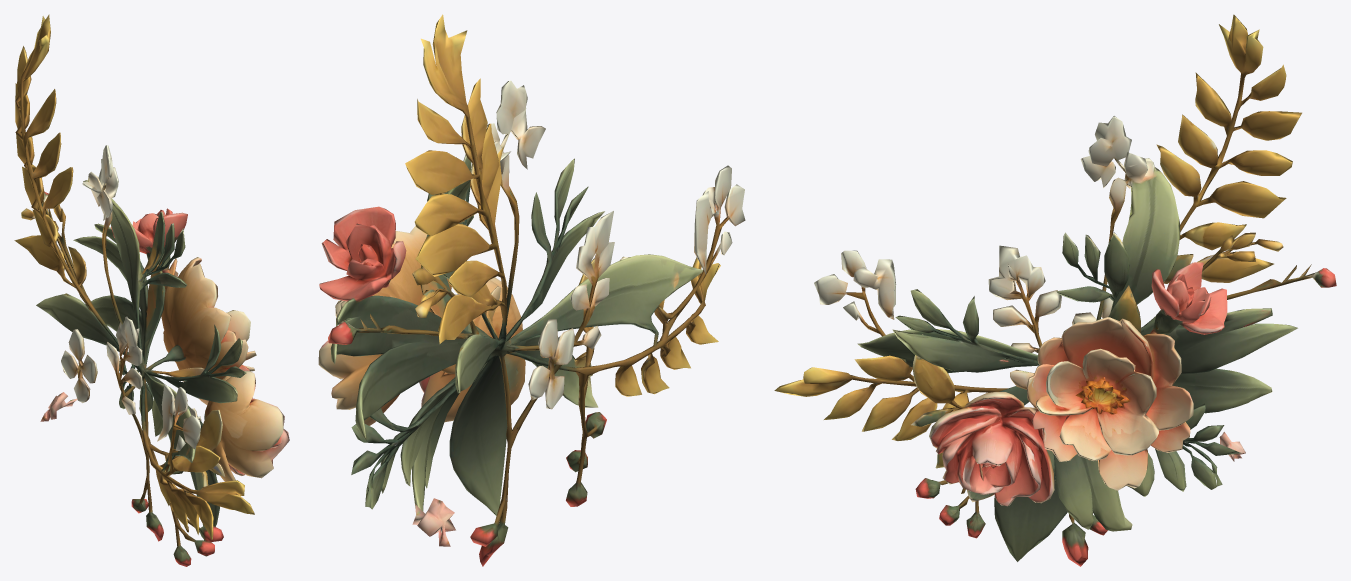
File: floral-bouquet.glb
3 views of the same model, side by side, from view 1: azimuth 30°, elevation 25°; view 2: azimuth 150°, elevation 25°; view 3: azimuth 270°, elevation 25° (orthographic). The views are drawn at different scales.
Parts seen in each view (by area): view 1: tripo_node_321bd567-5fa8-4a5c-a76e-e8839ac21e0d; view 2: tripo_node_321bd567-5fa8-4a5c-a76e-e8839ac21e0d; view 3: tripo_node_321bd567-5fa8-4a5c-a76e-e8839ac21e0d.
Part boxes in pixels (x1,y1,x2,y2): tripo_node_321bd567-5fa8-4a5c-a76e-e8839ac21e0d: [14, 14, 289, 566]; tripo_node_321bd567-5fa8-4a5c-a76e-e8839ac21e0d: [318, 14, 745, 566]; tripo_node_321bd567-5fa8-4a5c-a76e-e8839ac21e0d: [774, 14, 1336, 566].
Size of the model in its own units: 0.3795 by 1 by 0.9581.
Materials: 1 (1 with a texture image).
